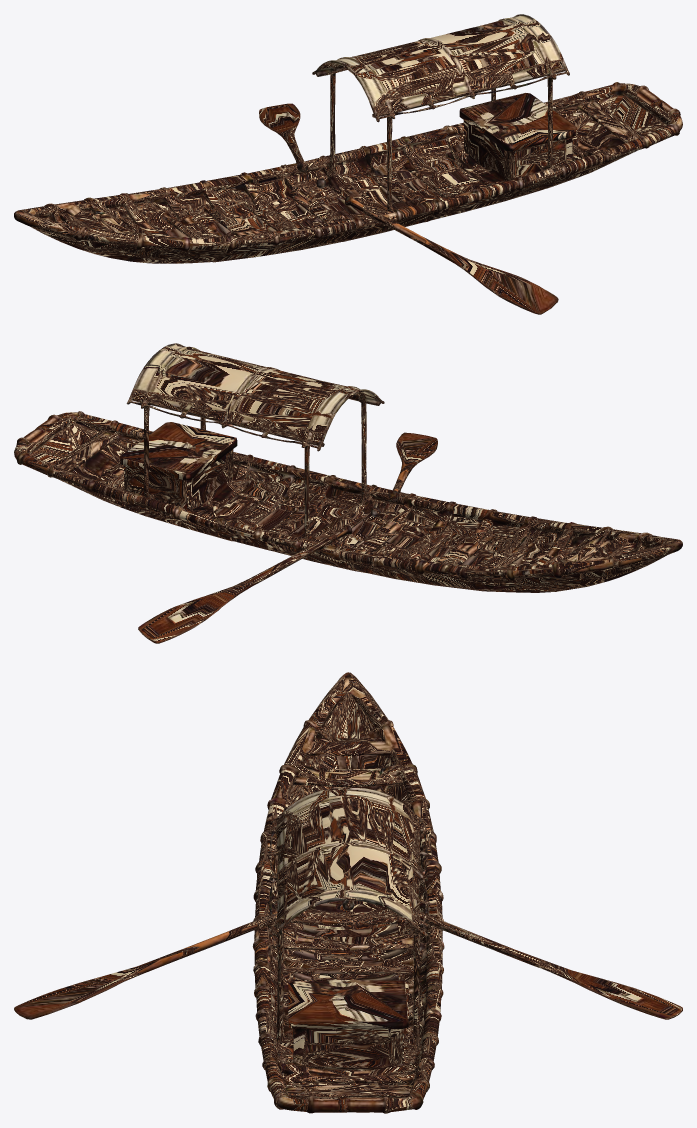
File: boat.glb
3 views of the same model, one above another, from view 1: azimuth 30°, elevation 25°; view 2: azimuth 150°, elevation 25°; view 3: azimuth 270°, elevation 25° (orthographic). The views are drawn at different scales.
Bounding box in the file's own units: 1.9 × 0.4464 × 1.41.
1 material, 1 textured.
